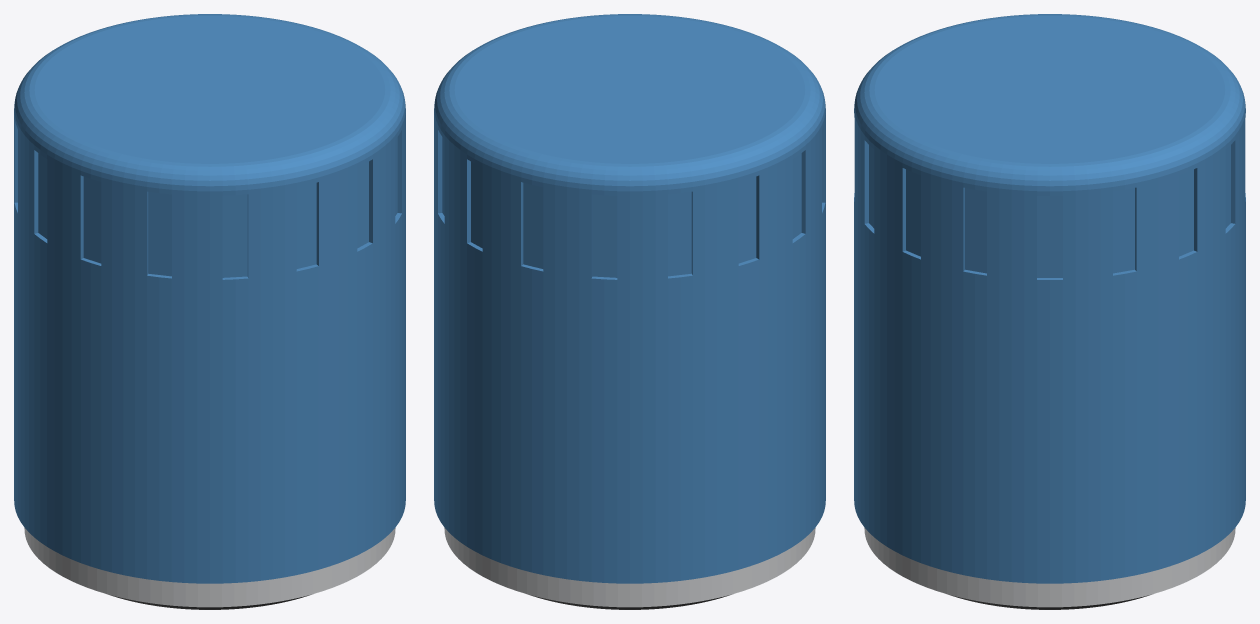
3 views of the same model, side by side, from view 1: azimuth 30°, elevation 25°; view 2: azimuth 150°, elevation 25°; view 3: azimuth 270°, elevation 25° (orthographic).
Visible parts, largest first — view 1: FL-001-0, FL-001-1; view 2: FL-001-0, FL-001-1; view 3: FL-001-0, FL-001-1.
Part boxes in pixels (bbox=[...]): FL-001-0: bbox=[14, 14, 405, 583]; FL-001-1: bbox=[24, 527, 395, 607]; FL-001-0: bbox=[434, 14, 825, 583]; FL-001-1: bbox=[444, 527, 815, 607]; FL-001-0: bbox=[854, 14, 1245, 583]; FL-001-1: bbox=[864, 527, 1235, 607].
Size of the model in its own units: 0.076 by 0.0971 by 0.076.
